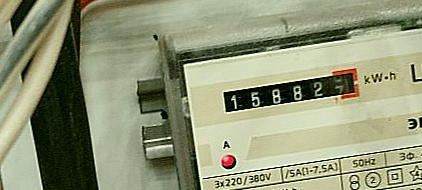1: (225, 90, 237, 107)
2: (308, 77, 321, 95)
5: (246, 87, 258, 104)
7: (331, 80, 342, 93)
8: (288, 81, 300, 99), (267, 85, 279, 102)
screen: (212, 59, 364, 120)
